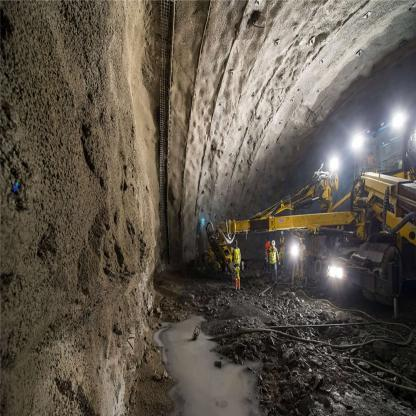person: (265, 235, 280, 289), (295, 236, 310, 290), (278, 228, 290, 282), (232, 238, 242, 300)
